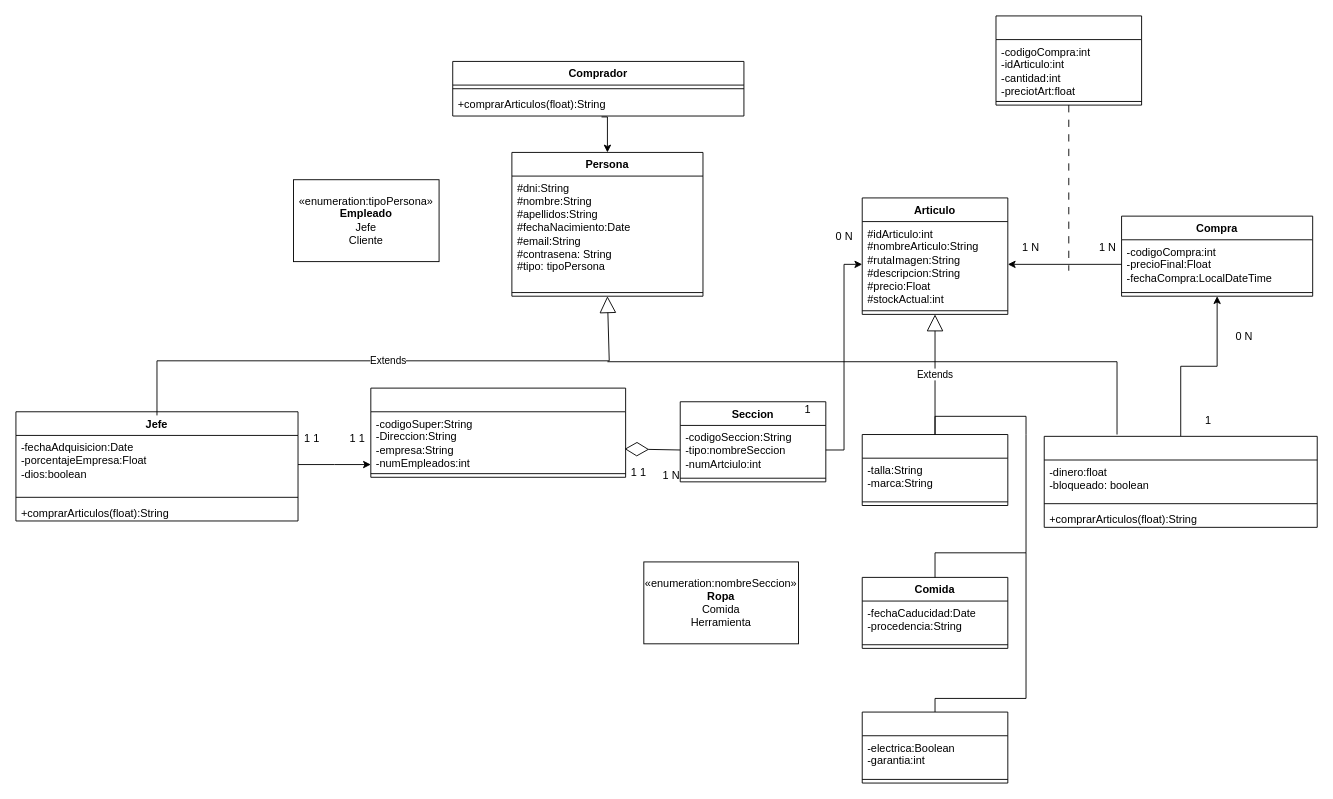
This 1333x799 diagram has some shape labels left out. The box of each missing label's shape, as (x1, y1, x2, y2) in pixels:
ArticulosComprados: (995, 15, 1142, 105)
Cliente: (1043, 435, 1317, 527)
Herramientas: (861, 711, 1008, 783)
Ropa: (861, 434, 1008, 506)
Supermercado: (370, 387, 626, 477)
